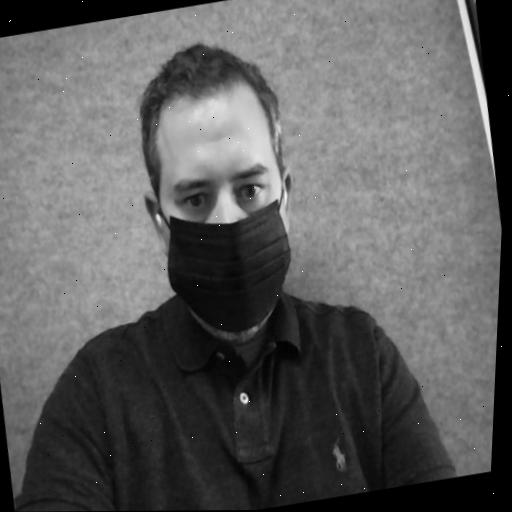mask: (117, 27, 323, 348)
